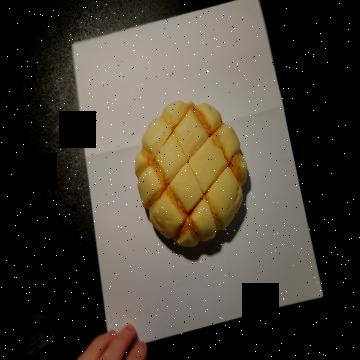melon_bread: (134, 101, 249, 248)
